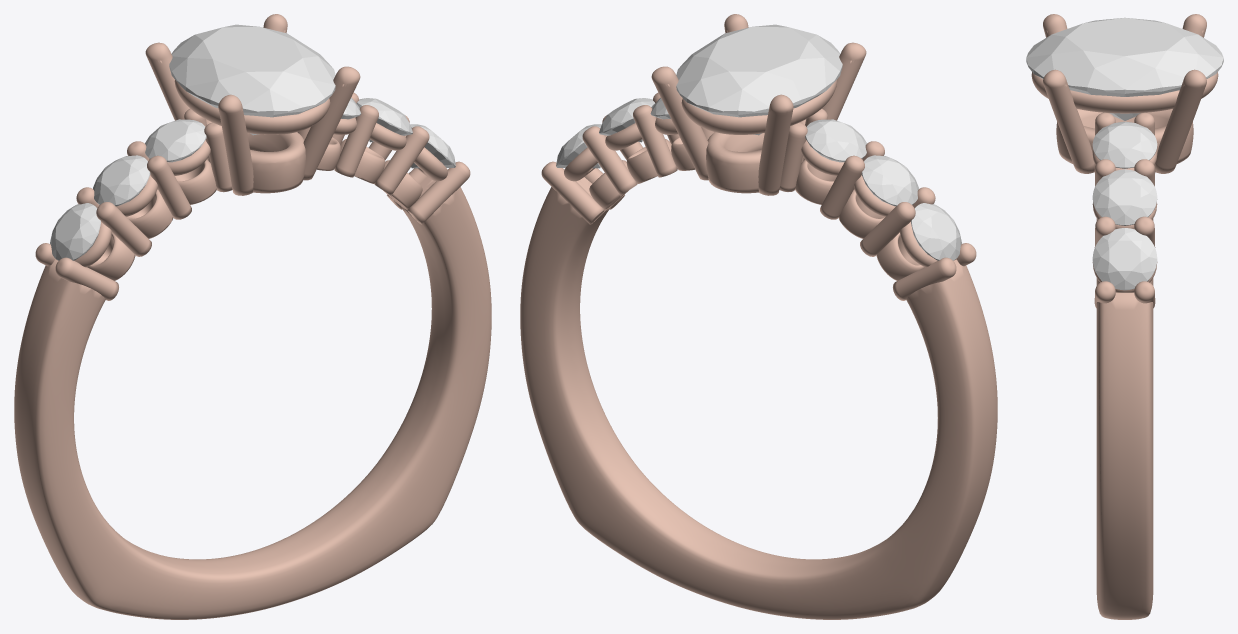
File: diamond-oval-rosegold-4prong-europeanshank-7stone.glb
3 views of the same model, side by side, from view 1: azimuth 30°, elevation 25°; view 2: azimuth 150°, elevation 25°; view 3: azimuth 270°, elevation 25° (orthographic).
Visible parts, largest first — view 1: metal, stone, side, side.001, side.002, side.004, side.003; view 2: metal, stone, side, side.001, side.002, side.004, side.003; view 3: metal, stone, side.003, side.004, side.005.
Part boxes in pixels (box(x1,y1,x2,y2)): metal: box(14, 14, 491, 619); stone: box(169, 24, 335, 135); side: box(50, 203, 100, 260); side.001: box(93, 155, 150, 206); side.002: box(145, 119, 206, 162); side.004: box(356, 98, 412, 142); side.003: box(410, 124, 455, 168); metal: box(520, 14, 997, 619); stone: box(676, 24, 842, 135); side: box(911, 203, 961, 260); side.001: box(861, 155, 918, 206); side.002: box(805, 119, 866, 162); side.004: box(599, 98, 655, 142); side.003: box(556, 124, 601, 168); metal: box(1031, 14, 1218, 619); stone: box(1026, 17, 1223, 120); side.003: box(1092, 228, 1157, 290); side.004: box(1092, 169, 1157, 225); side.005: box(1092, 121, 1157, 168).
Bounding box in the file's own units: 20.1 × 23.21 × 7.64.
